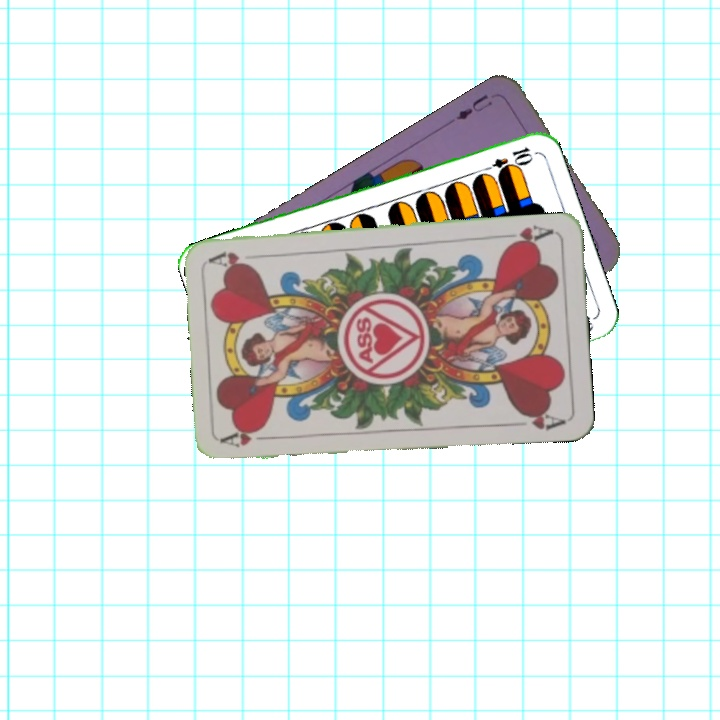E10: (477, 142, 535, 177)
EU: (451, 90, 495, 123)
HA: (498, 221, 556, 250), (219, 423, 278, 450)
